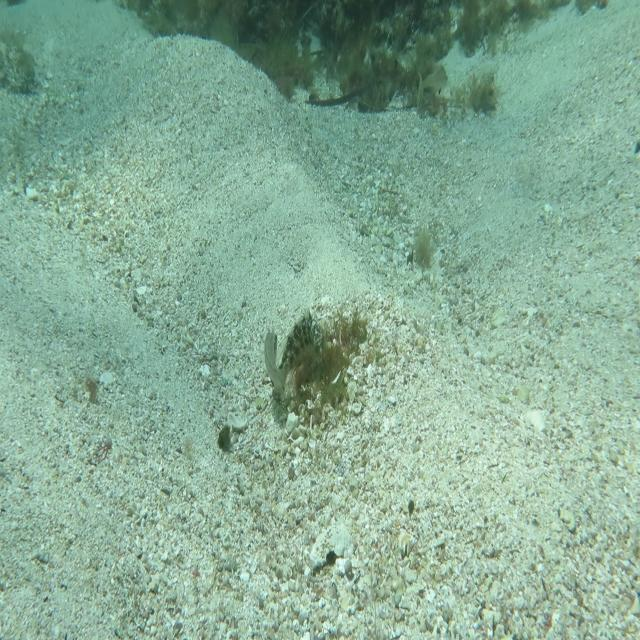DAN_CIRC: (271, 304, 328, 406)
female: (260, 329, 289, 401)
nest: (274, 308, 366, 426)
vegetation: (121, 0, 542, 45), (245, 41, 453, 88), (411, 225, 436, 270), (216, 422, 237, 454)
